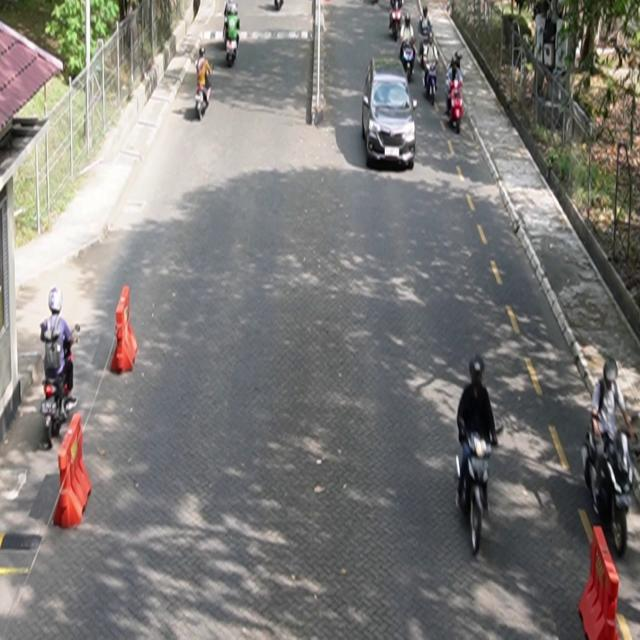car: (363, 58, 419, 171)
